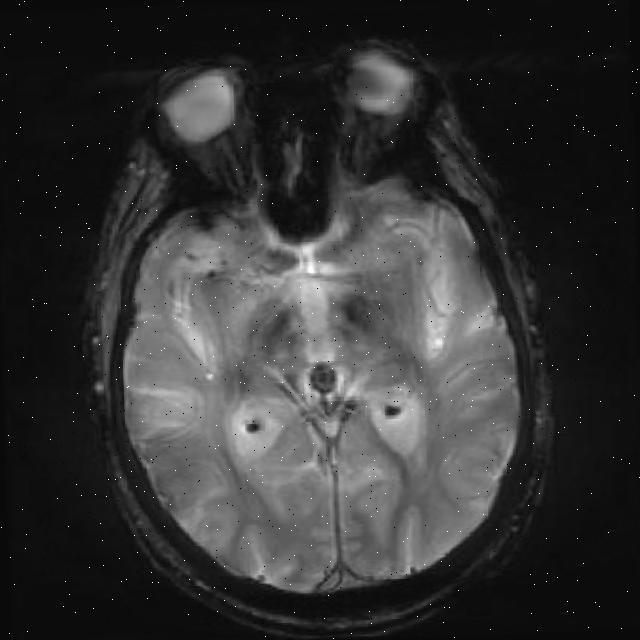EMCI: (170, 202, 223, 364), (326, 285, 402, 355), (364, 371, 426, 441), (245, 394, 280, 466)
